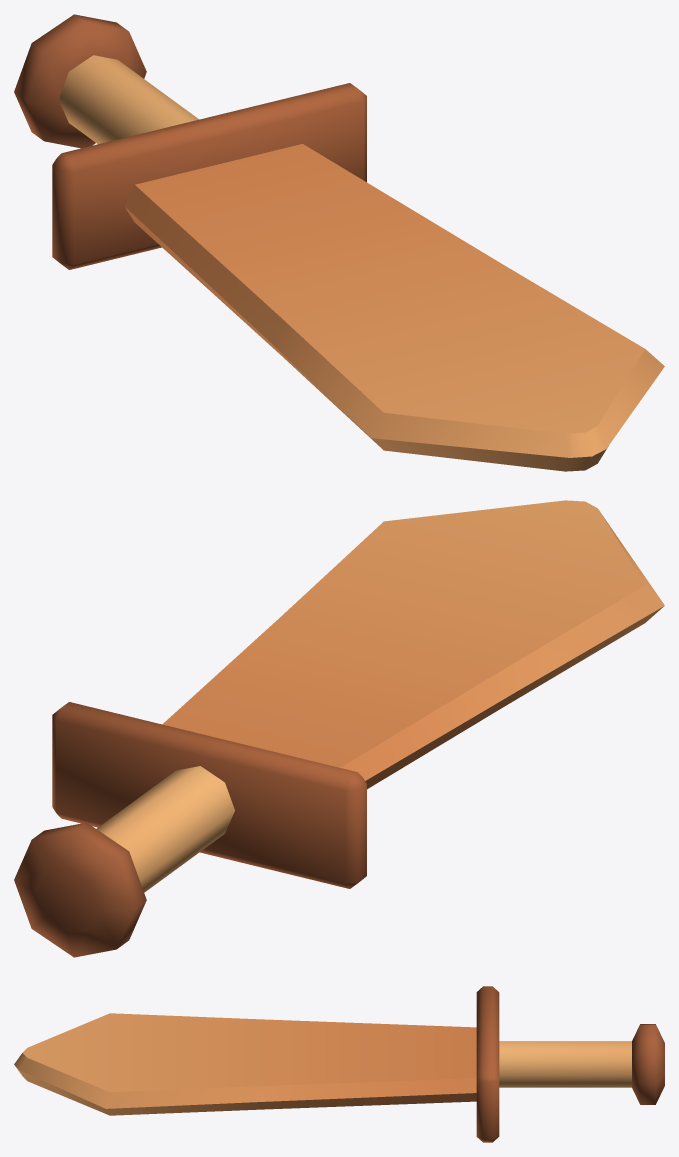
Rendered from sword_wood.fbx.
3 renders of one model, top to bottom at view 1: azimuth 30°, elevation 25°; view 2: azimuth 150°, elevation 25°; view 3: azimuth 270°, elevation 25°, orthographic. The views are drawn at different scales.
Visible parts, largest first — view 1: sword_wood; view 2: sword_wood; view 3: sword_wood.
Boxes of the visible parts, x1=… form: sword_wood: x1=14, y1=14, x2=664, y2=471; sword_wood: x1=14, y1=500, x2=664, y2=957; sword_wood: x1=14, y1=986, x2=664, y2=1142.
Bounding box in the file's own units: 0.2279 × 0.0894 × 0.6763.
3 materials, 3 textured.
